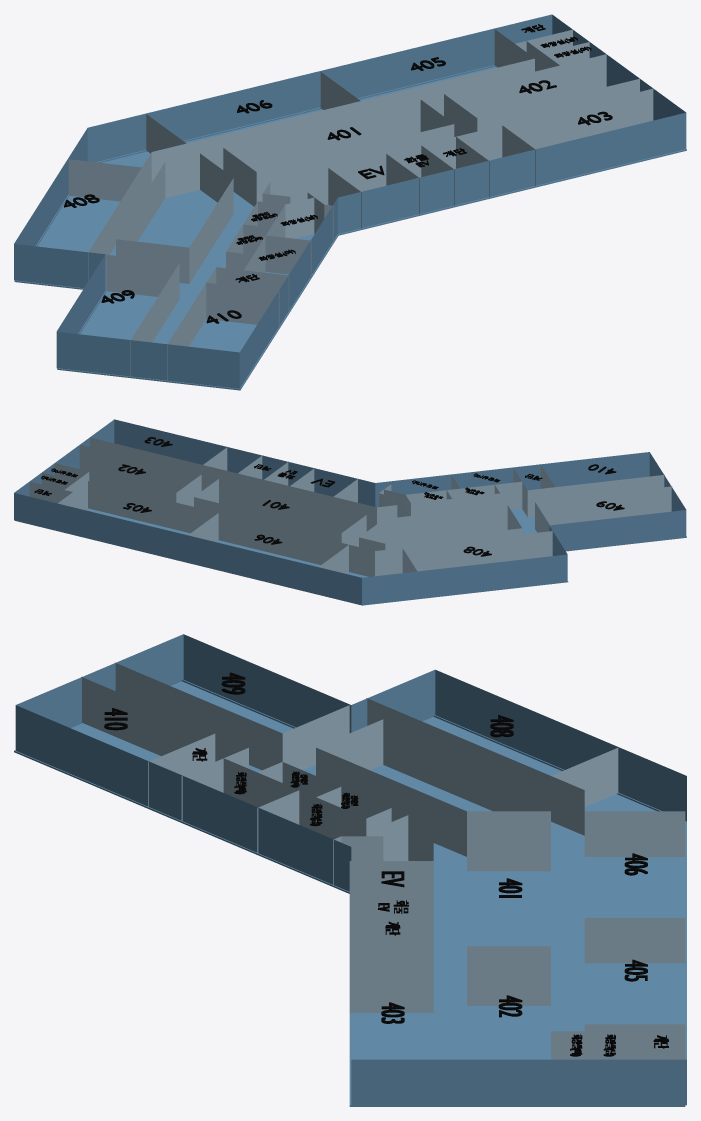
File: 4floor.glb
The picture shows the model from 3 angles, top to bottom: view 1: azimuth 30°, elevation 25°; view 2: azimuth 150°, elevation 25°; view 3: azimuth 270°, elevation 25°; orthographic projection. The views are drawn at different scales.
Parts seen in each view (by area): view 1: InnerWalls_4F, FloorAndWalls_4F; view 2: InnerWalls_4F, FloorAndWalls_4F; view 3: FloorAndWalls_4F, InnerWalls_4F.
Boxes of the visible parts, box(x1,y1,x2,y2) form: InnerWalls_4F: box(68, 29, 653, 380); FloorAndWalls_4F: box(14, 14, 686, 390); InnerWalls_4F: box(29, 437, 672, 576); FloorAndWalls_4F: box(14, 419, 686, 605); FloorAndWalls_4F: box(14, 634, 686, 1106); InnerWalls_4F: box(81, 663, 685, 1059).
Bounding box in the file's own units: 600 × 31.5 × 401.
